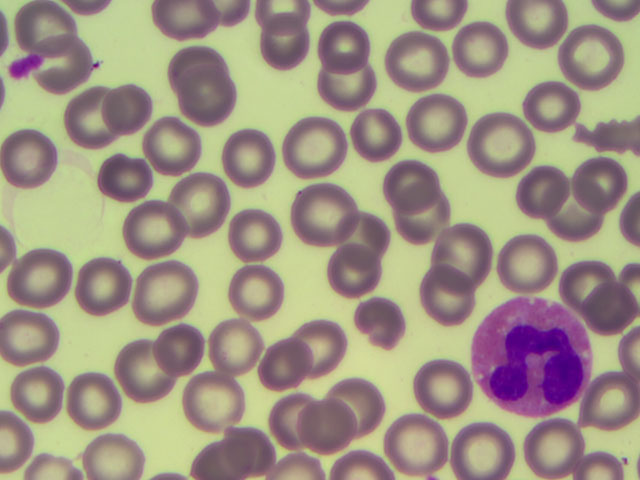Platelets: (8, 53, 45, 80)
RBC: (195, 426, 272, 480), (80, 426, 157, 479), (456, 416, 519, 480), (219, 127, 282, 190), (180, 75, 243, 138), (161, 40, 224, 103), (307, 13, 370, 76), (255, 15, 318, 78), (319, 59, 382, 122), (342, 108, 405, 171), (278, 115, 341, 178), (291, 184, 354, 247), (335, 204, 398, 267), (321, 246, 384, 309), (231, 261, 294, 324), (225, 208, 288, 271), (168, 172, 231, 235), (126, 201, 189, 264), (134, 261, 197, 324), (67, 254, 130, 317), (12, 248, 75, 311), (3, 365, 66, 428), (65, 369, 128, 432), (104, 337, 167, 400), (152, 320, 215, 383), (193, 313, 256, 376), (182, 375, 245, 438), (250, 332, 313, 395), (286, 317, 349, 380), (352, 286, 415, 349), (421, 270, 484, 333), (434, 220, 497, 283), (393, 186, 456, 249), (376, 151, 439, 214), (397, 95, 460, 158), (380, 25, 443, 88), (449, 17, 512, 80), (562, 24, 625, 87), (521, 70, 584, 133), (469, 112, 532, 175), (508, 160, 571, 223), (560, 147, 623, 210), (550, 185, 613, 248), (497, 232, 560, 295), (556, 241, 619, 304), (577, 373, 640, 436), (522, 412, 585, 475), (388, 410, 451, 473), (407, 359, 470, 422), (327, 375, 390, 438), (302, 391, 365, 454), (264, 385, 327, 448), (1, 313, 63, 376), (37, 38, 99, 98), (61, 88, 123, 148), (104, 76, 166, 136), (4, 128, 66, 188), (91, 144, 153, 204), (142, 115, 204, 175), (20, 1, 82, 60)
WBC: (474, 298, 588, 418)
